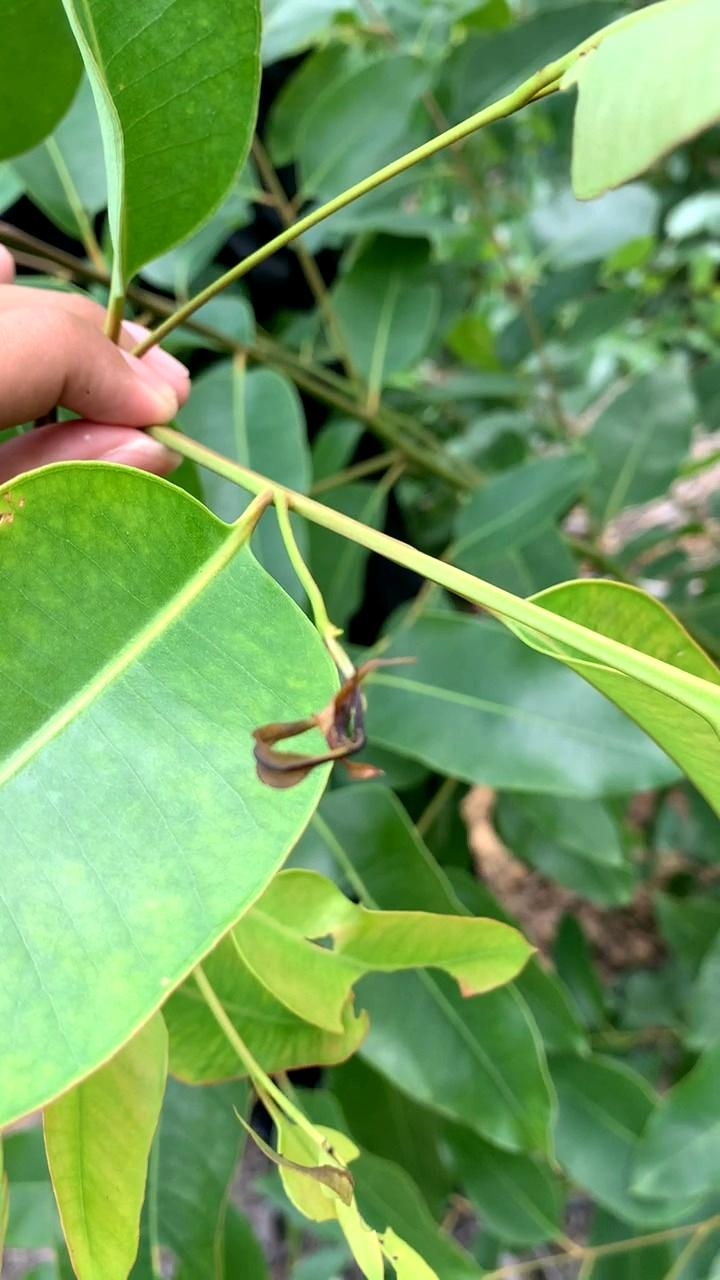Helopeltis-Withered Sprout: (246, 658, 421, 789)
